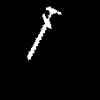double_crochet: (28, 7, 60, 59)
